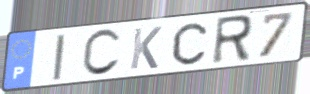7: (257, 10, 295, 61)
C: (79, 27, 124, 79), (170, 21, 209, 67)
I: (51, 32, 68, 83)
K: (127, 25, 164, 72)
R: (209, 13, 255, 67)
